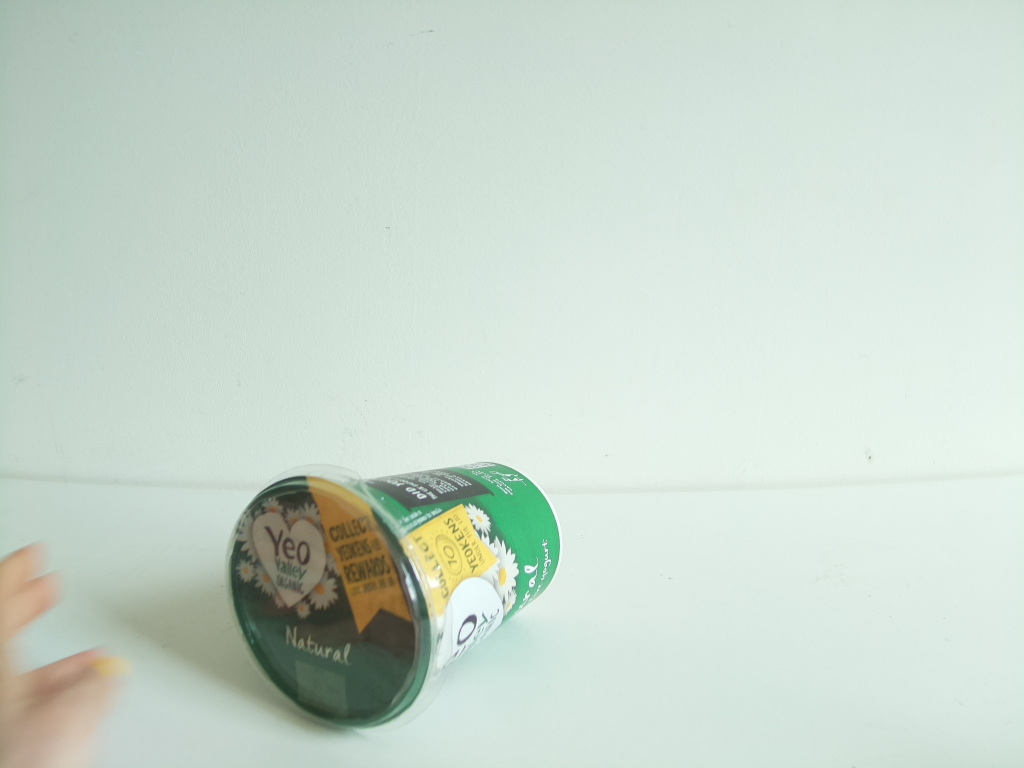yogurt: (215, 461, 563, 735)
